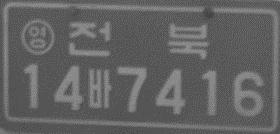1: (17, 61, 48, 110), (196, 70, 225, 116)
4: (154, 68, 186, 114), (53, 65, 83, 110)
6: (233, 70, 265, 118)
7: (116, 64, 147, 113)
바: (87, 67, 112, 111)
영: (20, 18, 54, 56)
전북_D: (67, 21, 210, 59)
